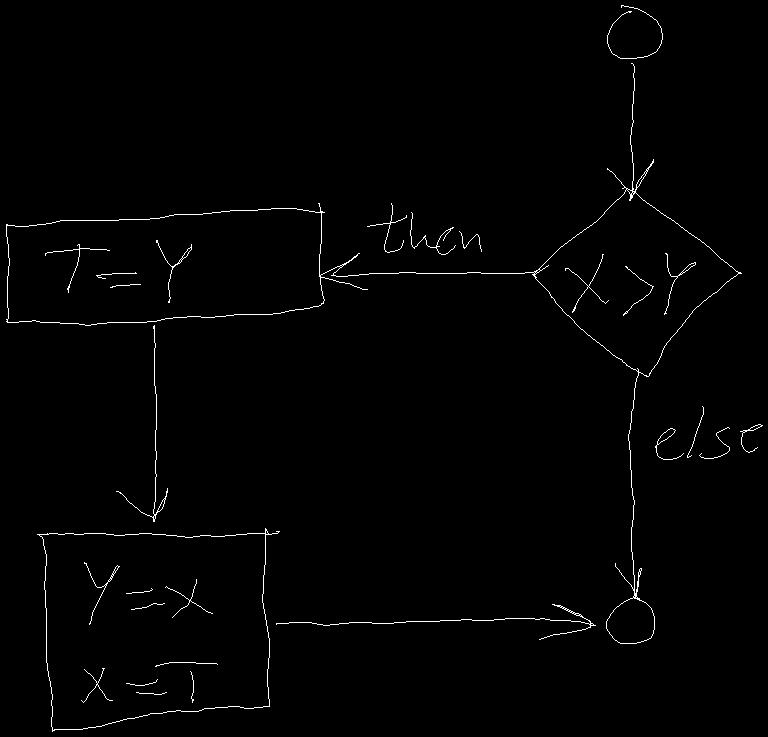arrow: (276, 604, 595, 639), (116, 325, 167, 521), (320, 253, 539, 289), (607, 63, 653, 200), (615, 368, 641, 598)
connection: (607, 5, 662, 58), (606, 597, 654, 643)
decision: (532, 187, 741, 376)
process: (37, 528, 279, 731), (6, 203, 324, 325)
text: (81, 562, 217, 702), (45, 240, 191, 302), (565, 253, 695, 315), (367, 203, 481, 254), (655, 406, 762, 459)
